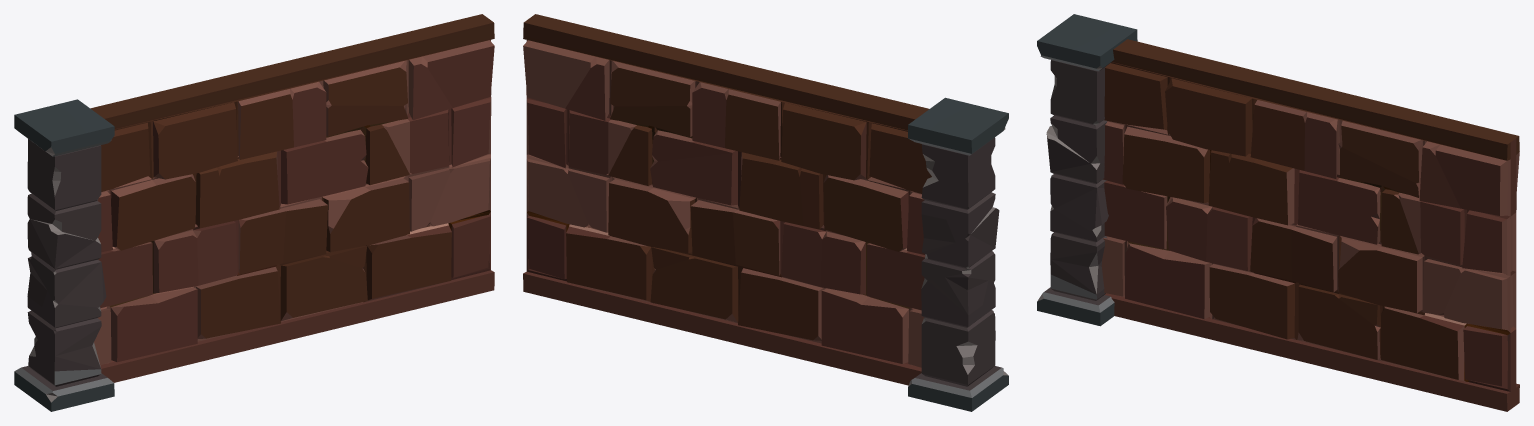
Rendered from Wall 10m.fbx.
3 views of the same model, side by side, from view 1: azimuth 30°, elevation 25°; view 2: azimuth 150°, elevation 25°; view 3: azimuth 330°, elevation 25° (orthographic).
Parts seen in each view (by area): view 1: Wall 10m; view 2: Wall 10m; view 3: Wall 10m.
Boxes of the visible parts, left/top/right/bottom form: Wall 10m: left=14, top=14, right=494, bottom=411; Wall 10m: left=523, top=14, right=1008, bottom=411; Wall 10m: left=1037, top=14, right=1519, bottom=411.
Bounding box in the file's own units: 1073 × 606 × 150.
